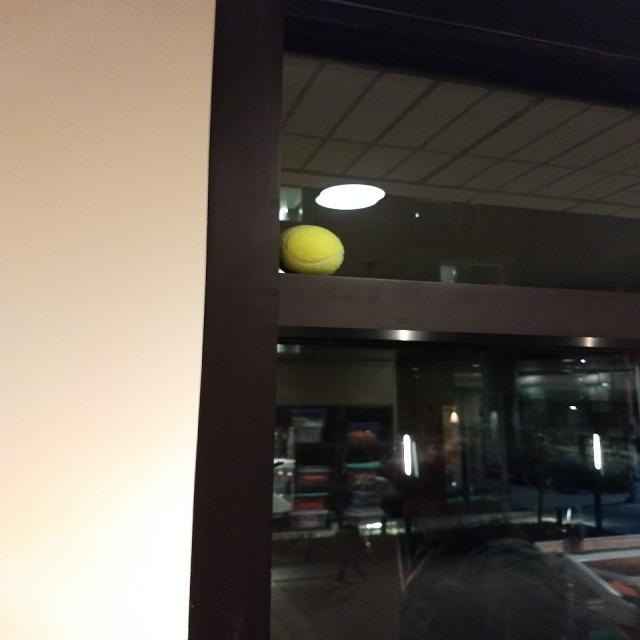Tennis-Ball: (277, 221, 346, 278)
